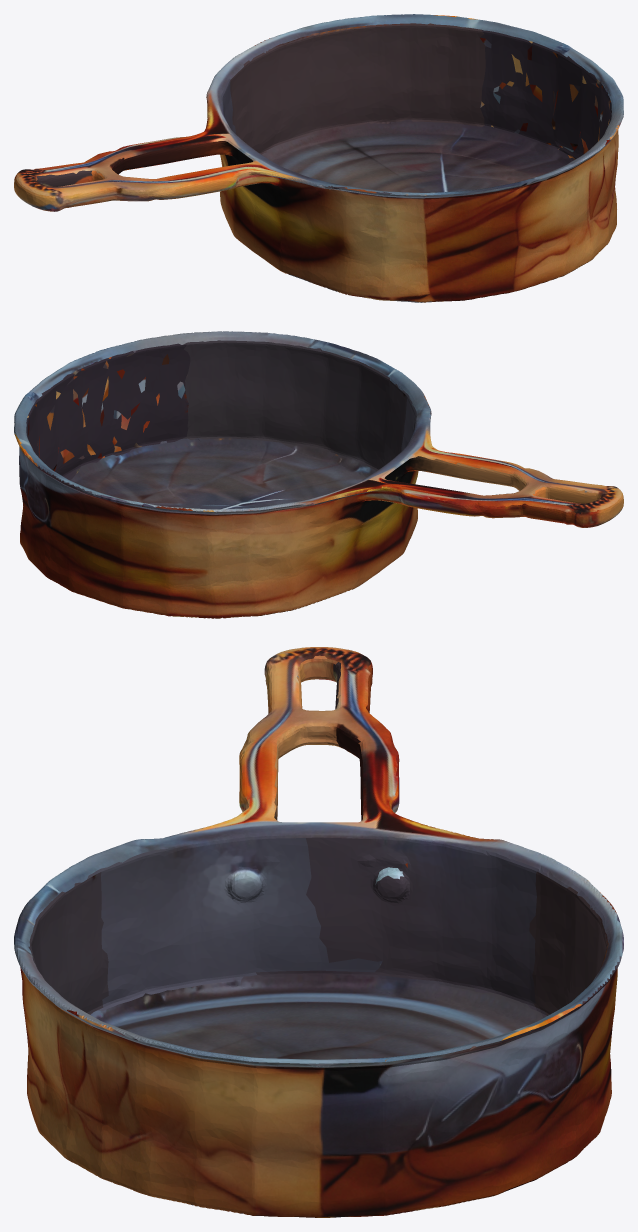
The model's file is image_0000_segmented.glb.
The picture shows the model from 3 angles, top to bottom: view 1: azimuth 30°, elevation 25°; view 2: azimuth 150°, elevation 25°; view 3: azimuth 270°, elevation 25°; orthographic projection. The views are drawn at different scales.
Parts seen in each view (by area): view 1: tmpes7mjffu.ply; view 2: tmpes7mjffu.ply; view 3: tmpes7mjffu.ply.
Boxes of the visible parts, left/top/right/bottom form: tmpes7mjffu.ply: left=14, top=14, right=623, bottom=302; tmpes7mjffu.ply: left=14, top=331, right=623, bottom=618; tmpes7mjffu.ply: left=14, top=647, right=623, bottom=1217.
Bounding box in the file's own units: 2 × 0.4281 × 1.3.
1 material, 1 textured.
